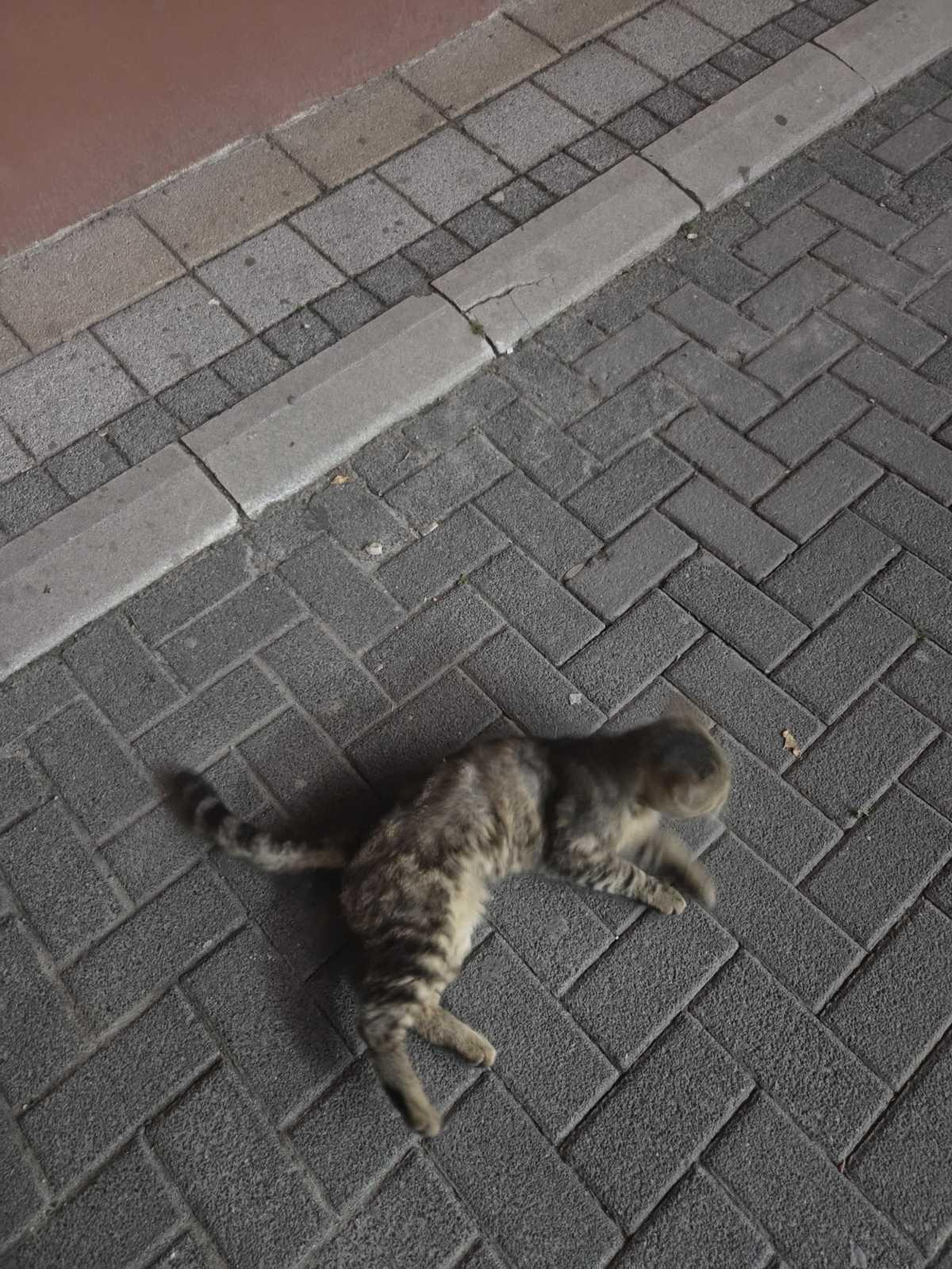macka: (153, 683, 739, 1150)
